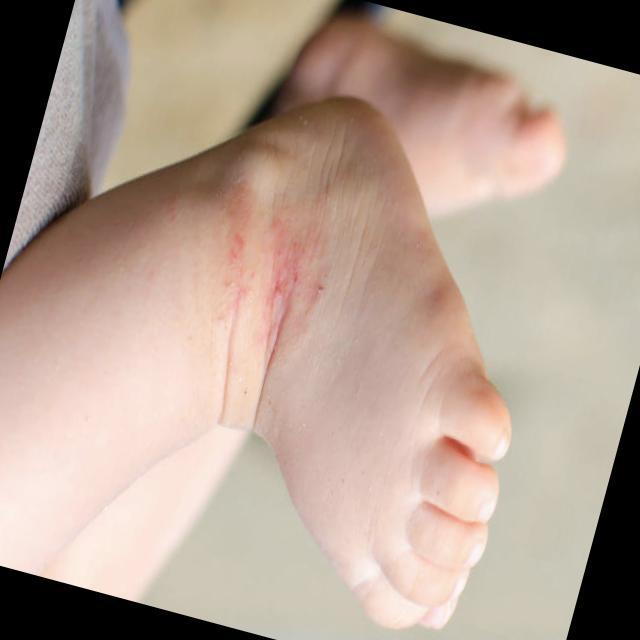Eczema: (225, 196, 328, 345)
